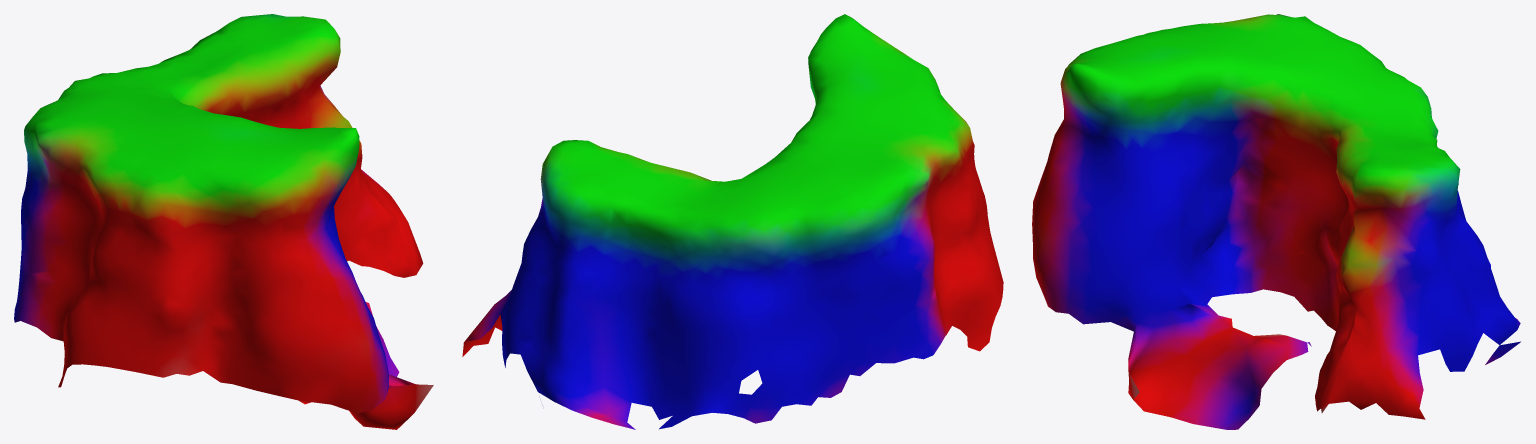
Rendered from AridExpanseTemp.fbx.
3 views of the same model, side by side, from view 1: azimuth 30°, elevation 25°; view 2: azimuth 150°, elevation 25°; view 3: azimuth 270°, elevation 25° (orthographic). The views are drawn at different scales.
Parts seen in each view (by area): view 1: Plane_002; view 2: Plane_002; view 3: Plane_002.
Part boxes in pixels (<box>): Plane_002: <box>14,14,433,429</box>; Plane_002: <box>462,14,1003,429</box>; Plane_002: <box>1032,14,1520,429</box>.
Size of the model in its own units: 594 by 441 by 621.
